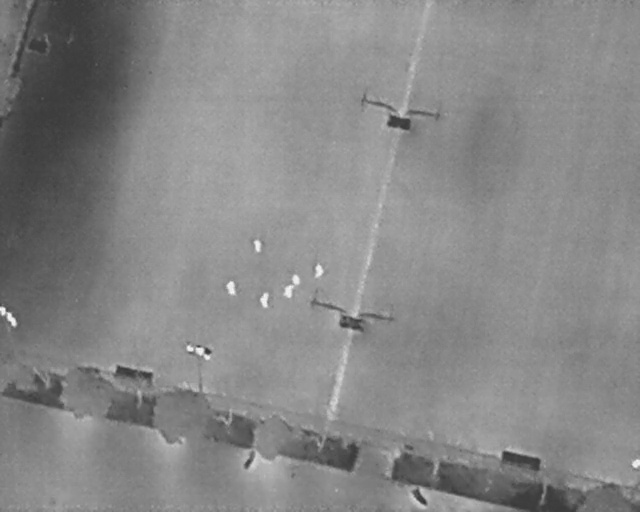Person: (259, 292, 270, 308), (314, 263, 324, 280), (226, 280, 236, 296), (284, 284, 294, 298), (253, 238, 262, 253), (292, 273, 300, 285)
